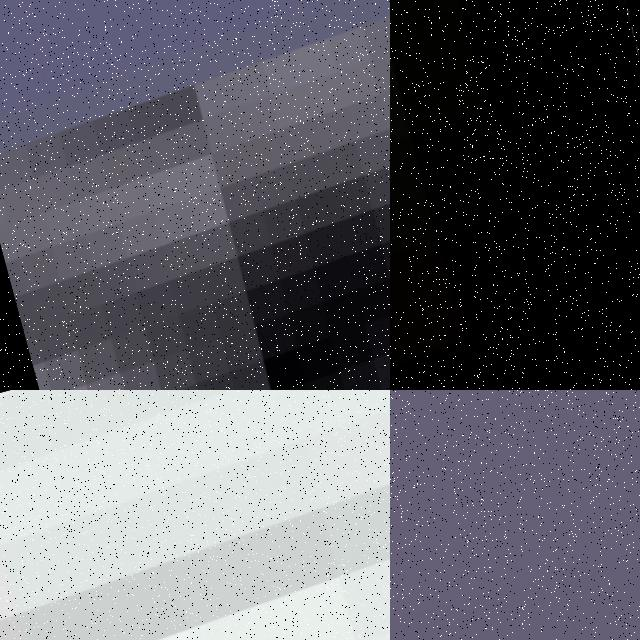0: (0, 0, 390, 390)
drone: (390, 0, 640, 390), (0, 390, 390, 640)
